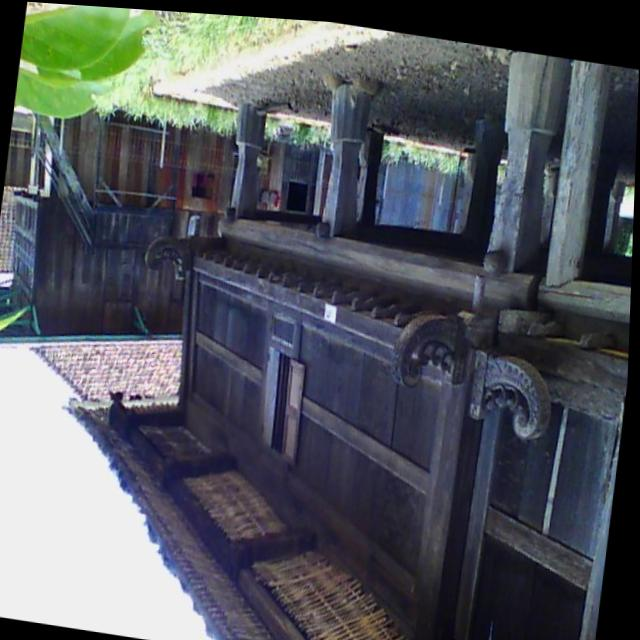Atap: (62, 405, 399, 640)
Tembok Bangunan: (180, 256, 625, 640)
